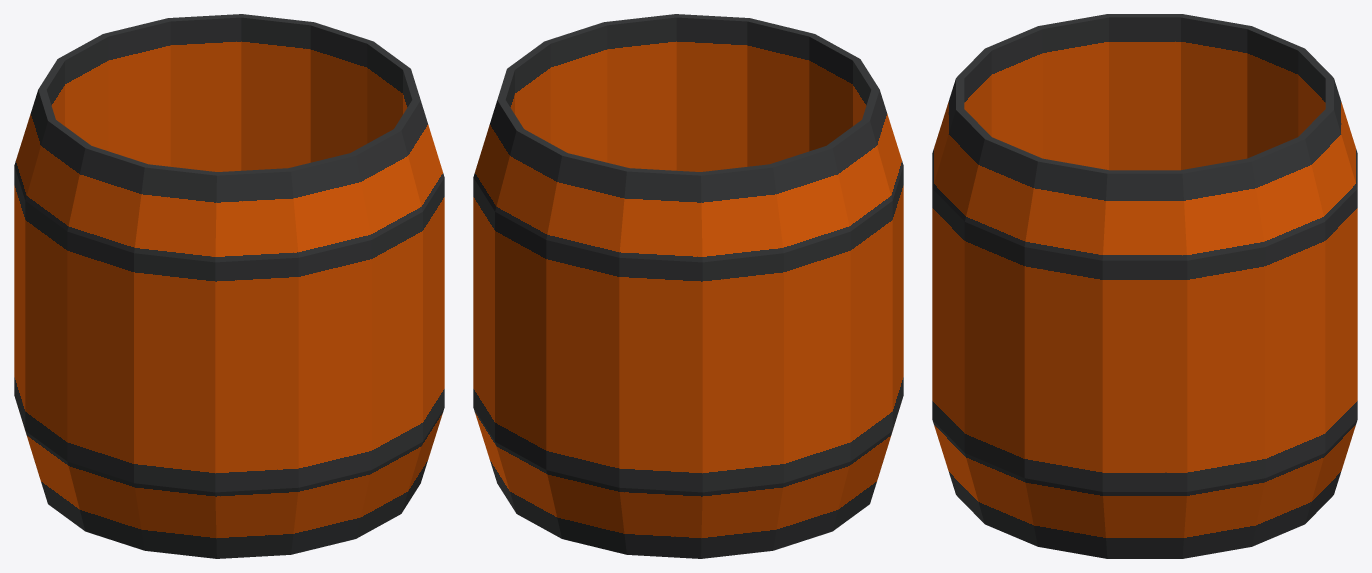
File: barrel.gltf
3 views of the same model, side by side, from view 1: azimuth 30°, elevation 25°; view 2: azimuth 150°, elevation 25°; view 3: azimuth 270°, elevation 25° (orthographic).
Visible parts, largest first — view 1: barrel; view 2: barrel; view 3: barrel.
Part boxes in pixels (<box>): barrel: <box>14,14,444,558</box>; barrel: <box>473,14,903,558</box>; barrel: <box>932,14,1357,558</box>.
Size of the model in its own units: 1 by 1 by 1.
Materials: 1 (1 with a texture image).
